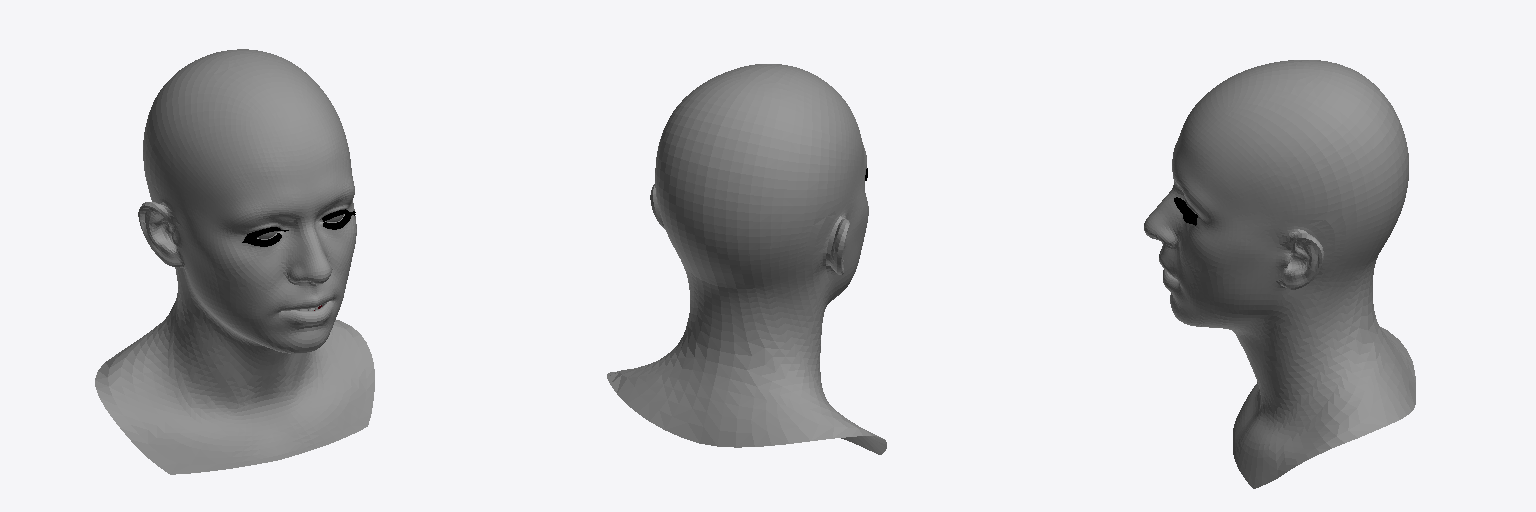
Rendered from mouthLowerDown_L.obj.
3 views of the same model, side by side, from view 1: azimuth 30°, elevation 25°; view 2: azimuth 150°, elevation 25°; view 3: azimuth 270°, elevation 25° (orthographic).
Bounding box in the file's own units: 24.83 × 33.81 × 22.32.